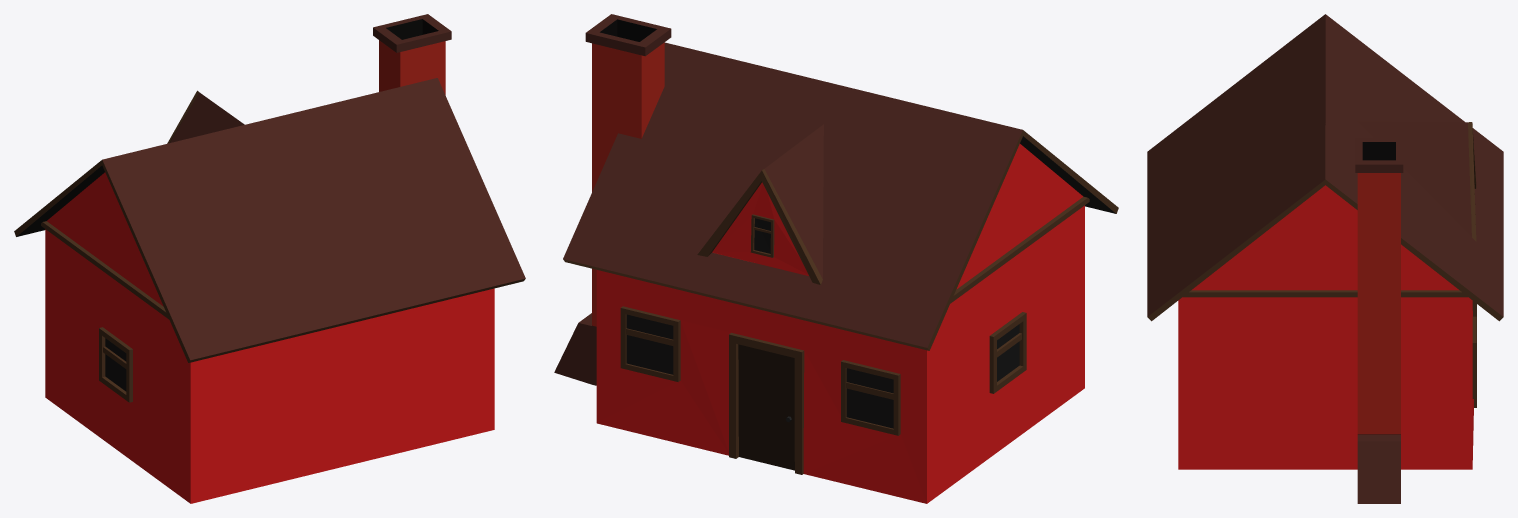
Rendered from house.FBX.
The picture shows the model from 3 angles, left to right: view 1: azimuth 30°, elevation 25°; view 2: azimuth 150°, elevation 25°; view 3: azimuth 270°, elevation 25°; orthographic projection. The views are drawn at different scales.
Parts seen in each view (by area): view 1: house; view 2: house; view 3: house.
Part boxes in pixels (x1=…): house: x1=14, y1=14, x2=525, y2=503; house: x1=554, y1=14, x2=1118, y2=503; house: x1=1147, y1=14, x2=1503, y2=503.
Bounding box in the file's own units: 98.67 × 77.34 × 76.36.
